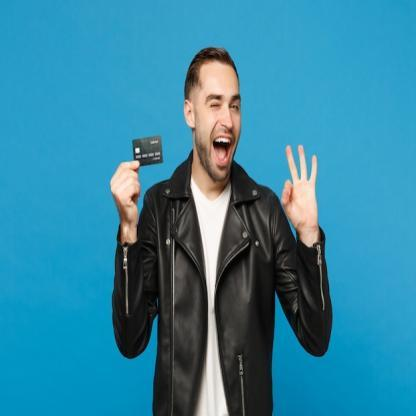ok: (279, 142, 321, 238)
